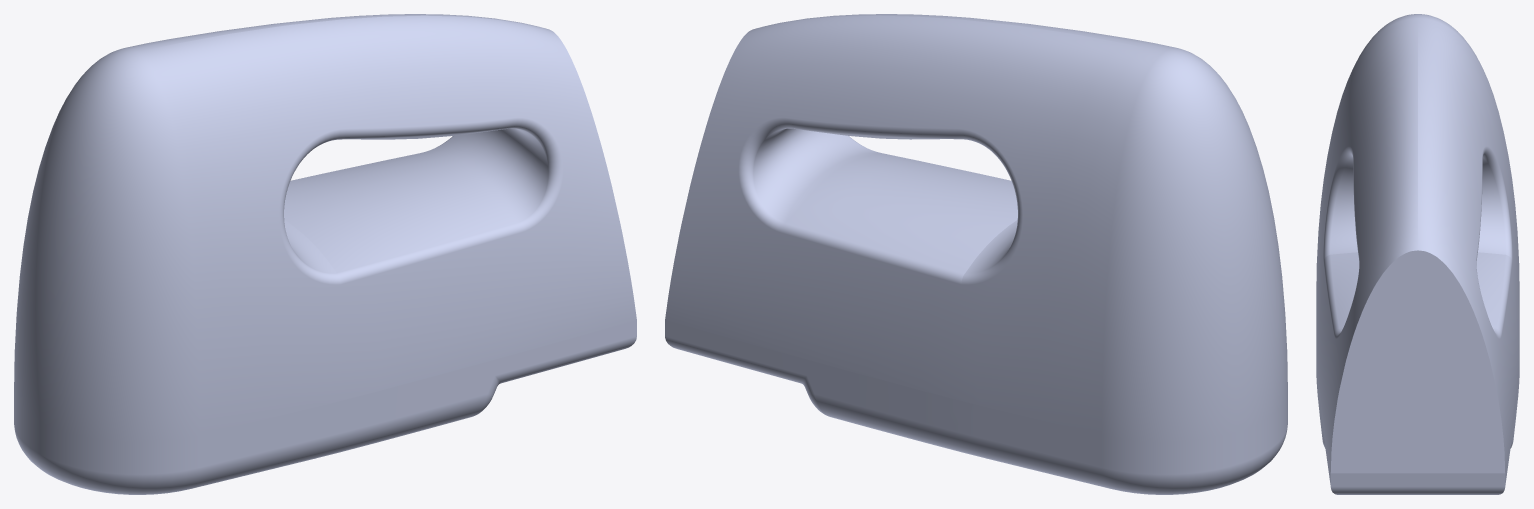
The model's file is Gurmani_Kaur_Mixer.glb.
The picture shows the model from 3 angles, left to right: view 1: azimuth 30°, elevation 25°; view 2: azimuth 150°, elevation 25°; view 3: azimuth 270°, elevation 25°; orthographic projection. The views are drawn at different scales.
Parts seen in each view (by area): view 1: Gurmani_Kaur_Mixer; view 2: Gurmani_Kaur_Mixer; view 3: Gurmani_Kaur_Mixer.
Boxes of the visible parts, <box> form: Gurmani_Kaur_Mixer: <box>14,14,636,494</box>; Gurmani_Kaur_Mixer: <box>665,14,1287,494</box>; Gurmani_Kaur_Mixer: <box>1316,14,1519,494</box>.
Size of the model in its own units: 0.18 by 0.125 by 0.07.
